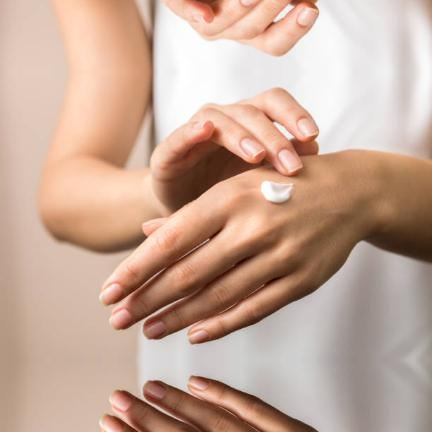Nail: (278, 149, 303, 173), (240, 137, 266, 158), (99, 284, 123, 306), (110, 309, 132, 330), (110, 390, 132, 411), (143, 321, 167, 340), (143, 380, 167, 399), (99, 414, 123, 432), (297, 117, 318, 136), (297, 8, 318, 27), (189, 330, 209, 344), (189, 376, 209, 390), (192, 120, 209, 130), (192, 14, 209, 24), (240, 0, 260, 7)
